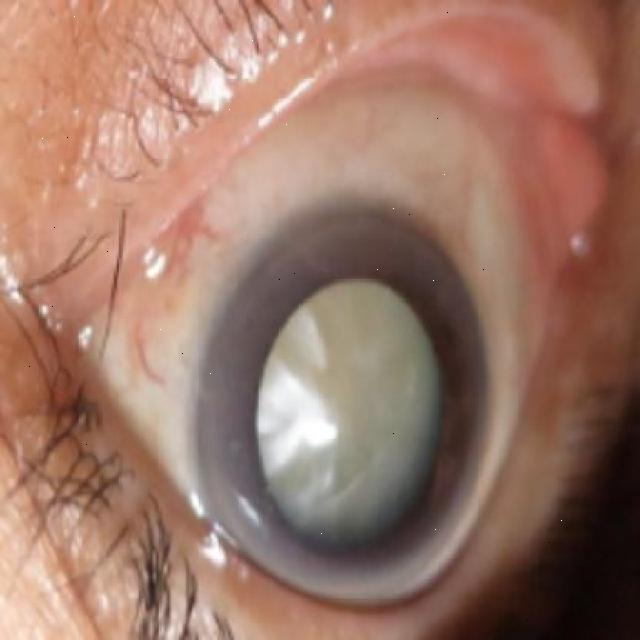Cataract: (197, 203, 494, 598)
